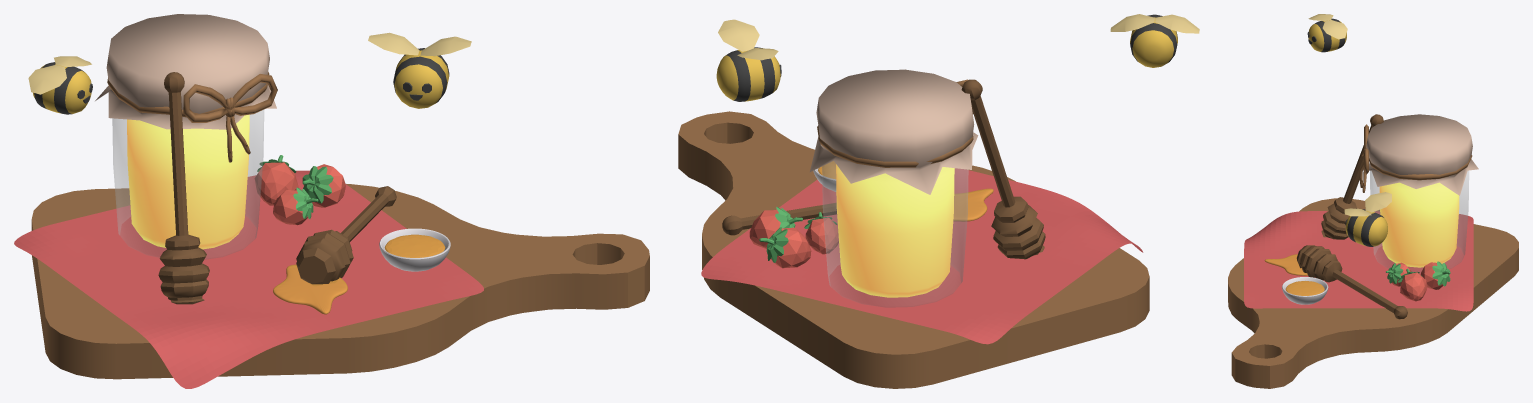
Rendered from honey.glb.
3 renders of one model, left to right at view 1: azimuth 30°, elevation 25°; view 2: azimuth 150°, elevation 25°; view 3: azimuth 270°, elevation 25°, orthographic. The views are drawn at different scales.
Parts seen in each view (by area): view 1: Plane, Plane.001, Cylinder.003, Sphere.002, Cylinder.005, Sphere.001, Cylinder.004, Circle, Circle.001, Icosphere.001, Icosphere, Icosphere.002 (+1 smaller); view 2: Plane, Cylinder.003, Plane.001, Sphere.002, Cylinder.005, Cylinder.004, Icosphere.001, Icosphere, Icosphere.002, Sphere.001, Circle; view 3: Plane, Cylinder.003, Plane.001, Sphere.001, Cylinder.005, Sphere.002, Cylinder.004, Icosphere, Icosphere.001, Circle.001, Circle.002, Circle (+1 smaller).
Boxes of the visible parts, bbox=[...] form: Plane: bbox=[31, 184, 649, 379]; Plane.001: bbox=[14, 170, 483, 388]; Cylinder.003: bbox=[95, 14, 277, 259]; Sphere.002: bbox=[158, 72, 209, 304]; Cylinder.005: bbox=[368, 32, 471, 108]; Sphere.001: bbox=[296, 186, 396, 284]; Cylinder.004: bbox=[28, 56, 92, 114]; Circle: bbox=[273, 264, 347, 314]; Circle.001: bbox=[379, 228, 450, 271]; Icosphere.001: bbox=[254, 155, 298, 205]; Icosphere: bbox=[302, 164, 345, 207]; Icosphere.002: bbox=[273, 187, 318, 225]; Plane: bbox=[678, 111, 1149, 388]; Cylinder.003: bbox=[810, 69, 978, 307]; Plane.001: bbox=[701, 168, 1143, 344]; Sphere.002: bbox=[961, 79, 1045, 259]; Cylinder.005: bbox=[716, 19, 781, 101]; Cylinder.004: bbox=[1110, 14, 1199, 67]; Icosphere.001: bbox=[759, 227, 811, 268]; Icosphere: bbox=[749, 206, 802, 248]; Icosphere.002: bbox=[804, 212, 838, 254]; Sphere.001: bbox=[722, 203, 836, 235]; Circle: bbox=[953, 188, 993, 221]; Plane: bbox=[1228, 198, 1518, 388]; Cylinder.003: bbox=[1359, 114, 1478, 273]; Plane.001: bbox=[1244, 211, 1473, 311]; Sphere.001: bbox=[1296, 245, 1407, 319]; Cylinder.005: bbox=[1344, 192, 1391, 246]; Sphere.002: bbox=[1321, 114, 1383, 239]; Cylinder.004: bbox=[1307, 14, 1347, 52]; Icosphere: bbox=[1398, 268, 1427, 301]; Icosphere.001: bbox=[1420, 261, 1450, 289]; Circle.001: bbox=[1282, 277, 1328, 304]; Circle.002: bbox=[1285, 281, 1324, 295]; Circle: bbox=[1264, 254, 1307, 275].
Bounding box in the file's own units: 3.36 × 1.73 × 2.28.
